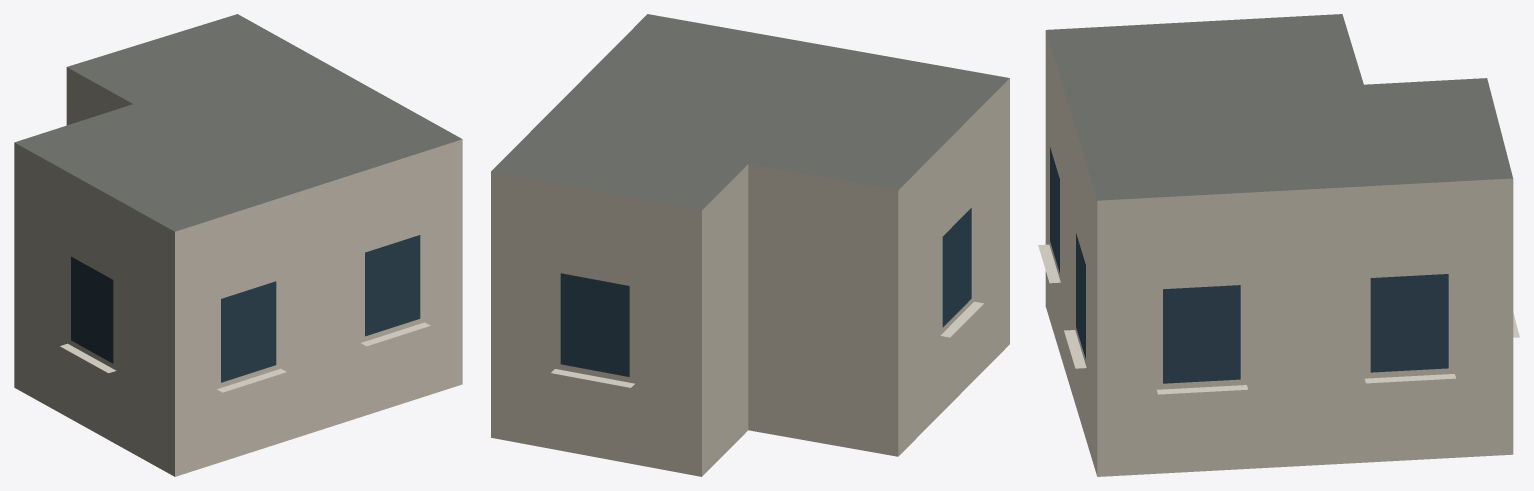
3 renders of one model, left to right at view 1: azimuth 30°, elevation 25°; view 2: azimuth 150°, elevation 25°; view 3: azimuth 270°, elevation 25°, orthographic. The views are drawn at different scales.
Parts seen in each view (by area): view 1: Footprint 0, Inferred window bays, Window sills; view 2: Footprint 0, Inferred window bays, Window sills; view 3: Footprint 0, Inferred window bays, Window sills.
Part boxes in pixels (box(x1,y1,x2,y2)): Footprint 0: box(14, 14, 462, 476); Inferred window bays: box(71, 235, 420, 382); Window sills: box(60, 322, 430, 392); Footprint 0: box(491, 14, 1009, 476); Inferred window bays: box(560, 208, 971, 376); Window sills: box(551, 301, 983, 387); Footprint 0: box(1045, 14, 1513, 476); Inferred window bays: box(1050, 147, 1448, 383); Window sills: box(1038, 244, 1519, 394).
Bounding box in the file's own units: 7.13 × 4.82 × 7.62.
